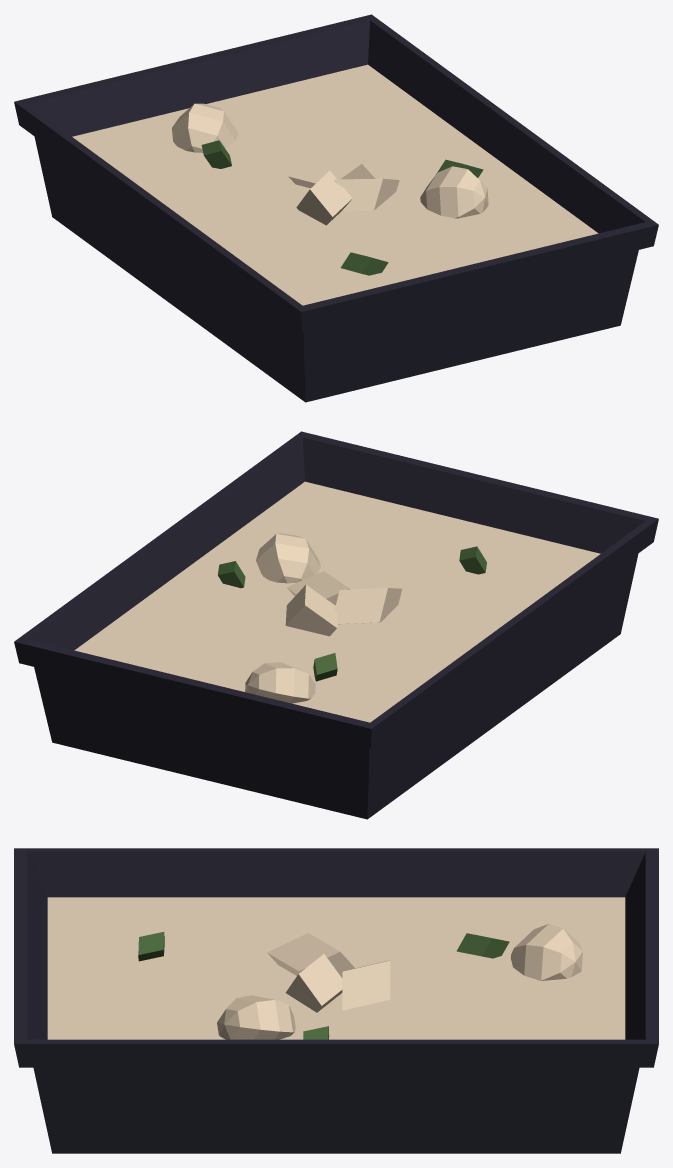
File: Lugaw.fbx
The picture shows the model from 3 angles, top to bottom: view 1: azimuth 30°, elevation 25°; view 2: azimuth 150°, elevation 25°; view 3: azimuth 270°, elevation 25°; orthographic projection. The views are drawn at different scales.
Parts seen in each view (by area): view 1: Lugaw; view 2: Lugaw; view 3: Lugaw.
Boxes of the visible parts, <box> form: Lugaw: <box>14,14,658,402</box>; Lugaw: <box>14,431,658,819</box>; Lugaw: <box>14,848,658,1153</box>.
Size of the model in its own units: 95.05 by 132 by 27.51.
